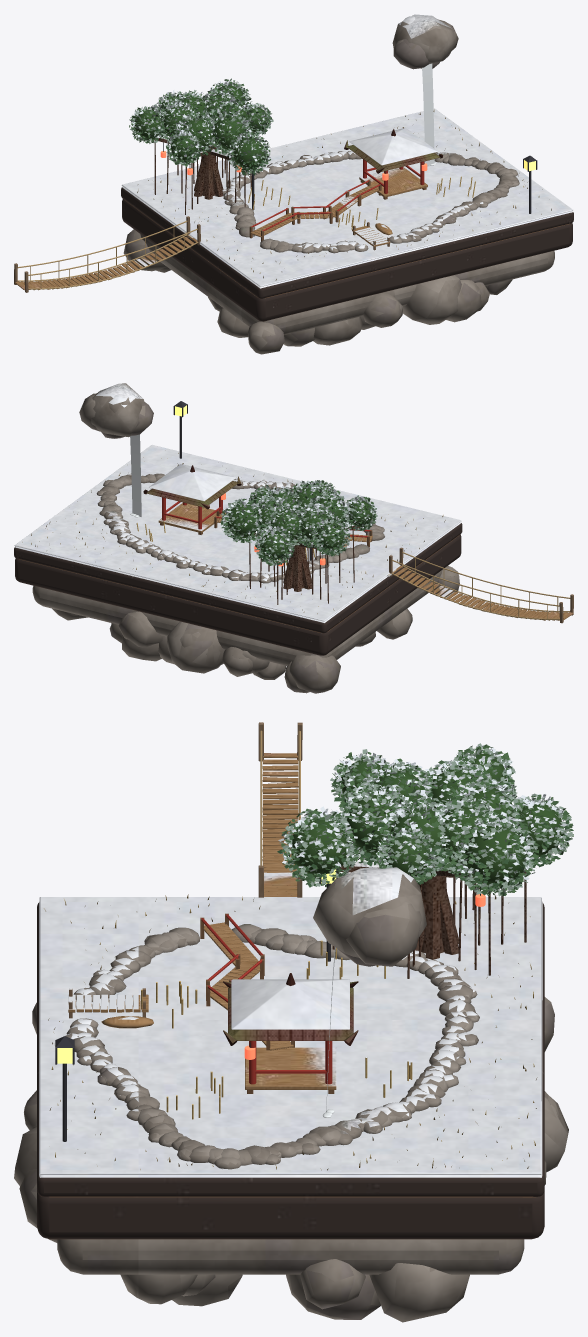
File: unlock-lotus-dong.glb
3 renders of one model, top to bottom at view 1: azimuth 30°, elevation 25°; view 2: azimuth 150°, elevation 25°; view 3: azimuth 270°, elevation 25°, orthographic. The views are drawn at different scales.
Parts seen in each view (by area): view 1: unlock-lotus-static, sway.005-mesh, fall-float; view 2: unlock-lotus-static, sway.005-mesh, fall-float; view 3: unlock-lotus-static, sway.005-mesh.
Part boxes in pixels (x1=…): unlock-lotus-static: x1=14, y1=14, x2=573, y2=354; sway.005-mesh: x1=129, y1=78, x2=273, y2=175; fall-float: x1=422, y1=63, x2=434, y2=166; unlock-lotus-static: x1=14, y1=383, x2=573, y2=693; sway.005-mesh: x1=220, y1=480, x2=377, y2=565; fall-float: x1=130, y1=434, x2=141, y2=516; unlock-lotus-static: x1=14, y1=722, x2=568, y2=1322; sway.005-mesh: x1=277, y1=743, x2=573, y2=896.
Size of the model in its own units: 10.1 by 4.85 by 5.52.
Materials: 44 (27 with a texture image).
